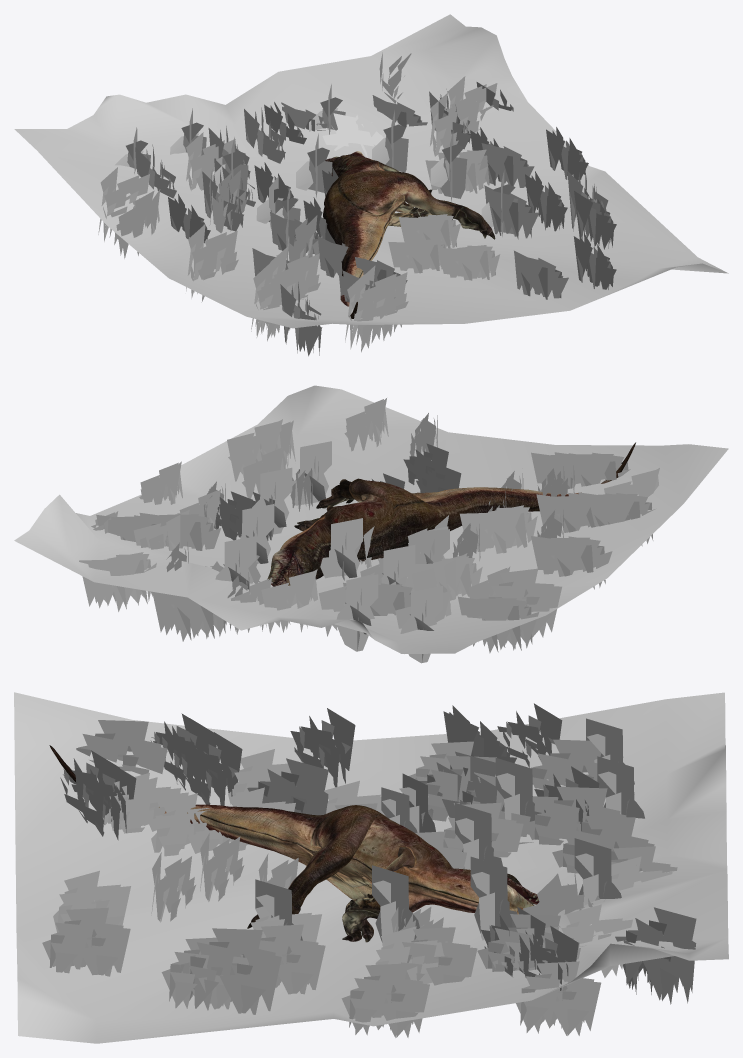
Rendered from Dino.gltf.
The picture shows the model from 3 angles, top to bottom: view 1: azimuth 30°, elevation 25°; view 2: azimuth 150°, elevation 25°; view 3: azimuth 270°, elevation 25°; orthographic projection. The views are drawn at different scales.
Parts seen in each view (by area): view 1: Terrain, corp:Object_6, Dry Grass 9.022, Dry Grass 9.024, Dry Grass 8.033, Dry Grass 7.020, Dry Grass 7.021, Dry Grass 9.030, Dry Grass 9.026, Dry Grass 8.037, Dry Grass 8.045, Bamboo 3.006 (+38 smaller); view 2: Terrain, corp:Object_6, Dry Grass 6.006, Dry Grass 9.022, Dry Grass 9.026, Dry Grass 5.019, Dry Grass 6.007, Dry Grass 9.044, Bamboo 3, Bamboo 3.012, Dry Grass 4.012, Dry Grass 4.031 (+34 smaller); view 3: Terrain, corp:Object_6, Dry Grass 4.012, Dry Grass!0.028, Dry Grass!0.023, Dry Grass!0.021, Dry Grass 6.007, Dry Grass 4.035, Dry Grass 4.033, Dry Grass!0.030, Dry Grass!0.031, Dry Grass 9.022 (+48 smaller).
Part boxes in pixels (x1=…): Terrain: x1=14, y1=14, x2=728, y2=328; corp:Object_6: x1=323, y1=151, x2=495, y2=318; Dry Grass 9.022: x1=186, y1=224, x2=238, y2=302; Dry Grass 9.024: x1=345, y1=274, x2=397, y2=352; Dry Grass 8.033: x1=438, y1=245, x2=500, y2=280; Dry Grass 7.020: x1=514, y1=250, x2=568, y2=299; Dry Grass 7.021: x1=484, y1=185, x2=539, y2=239; Dry Grass 9.030: x1=430, y1=93, x2=479, y2=156; Dry Grass 9.026: x1=98, y1=167, x2=149, y2=244; Dry Grass 8.037: x1=388, y1=239, x2=450, y2=273; Dry Grass 8.045: x1=399, y1=214, x2=461, y2=248; Bamboo 3.006: x1=430, y1=130, x2=467, y2=201; Terrain: x1=14, y1=385, x2=728, y2=653; corp:Object_6: x1=267, y1=442, x2=635, y2=586; Dry Grass 6.006: x1=459, y1=505, x2=537, y2=553; Dry Grass 9.022: x1=531, y1=536, x2=612, y2=589; Dry Grass 9.026: x1=458, y1=596, x2=539, y2=653; Dry Grass 5.019: x1=488, y1=568, x2=561, y2=637; Dry Grass 6.007: x1=79, y1=552, x2=156, y2=611; Dry Grass 9.044: x1=152, y1=592, x2=225, y2=641; Bamboo 3: x1=336, y1=574, x2=378, y2=651; Bamboo 3.012: x1=320, y1=518, x2=362, y2=580; Dry Grass 4.012: x1=227, y1=419, x2=285, y2=481; Dry Grass 4.031: x1=261, y1=569, x2=317, y2=633; Terrain: x1=14, y1=692, x2=728, y2=1043; corp:Object_6: x1=49, y1=745, x2=539, y2=942; Dry Grass 4.012: x1=179, y1=928, x2=281, y2=1014; Dry Grass!0.028: x1=42, y1=907, x2=130, y2=976; Dry Grass!0.023: x1=341, y1=963, x2=429, y2=1037; Dry Grass!0.021: x1=516, y1=961, x2=601, y2=1035; Dry Grass 6.007: x1=615, y1=907, x2=696, y2=1004; Dry Grass 4.035: x1=76, y1=720, x2=167, y2=774; Dry Grass 4.033: x1=524, y1=786, x2=626, y2=845; Dry Grass!0.030: x1=258, y1=924, x2=325, y2=994; Dry Grass!0.031: x1=401, y1=927, x2=477, y2=985; Dry Grass 9.022: x1=290, y1=708, x2=355, y2=787.
Size of the model in its own units: 6.3 by 1.36 by 6.85.
